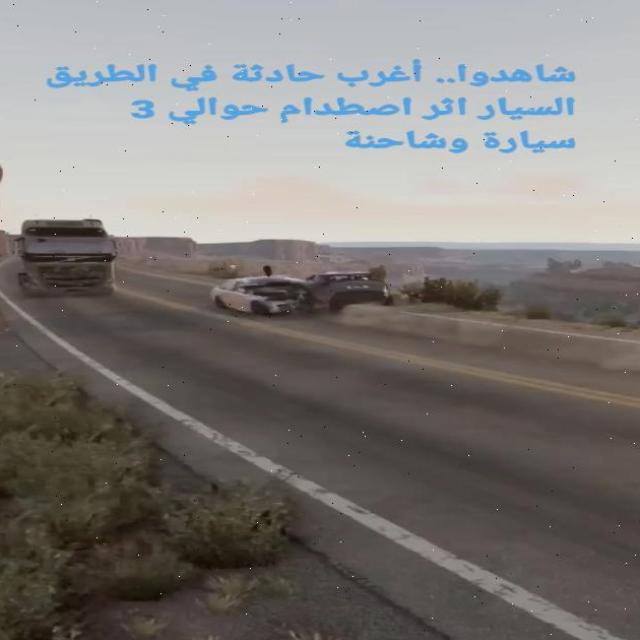accident: (207, 262, 421, 321)
